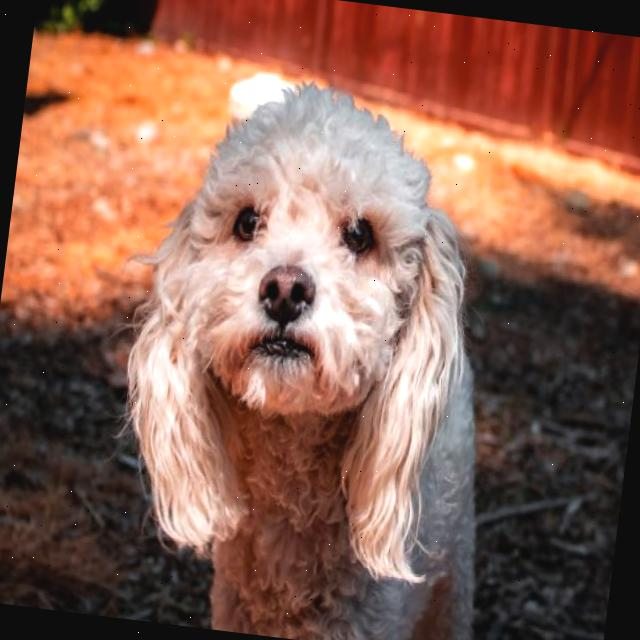Poodle_dog: (83, 55, 504, 620)
